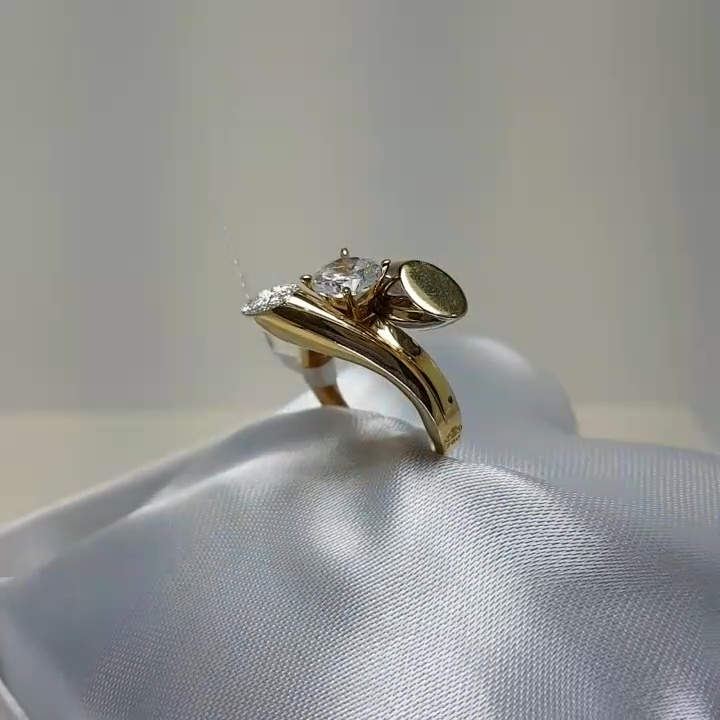Ring 7: (254, 229, 506, 458)
